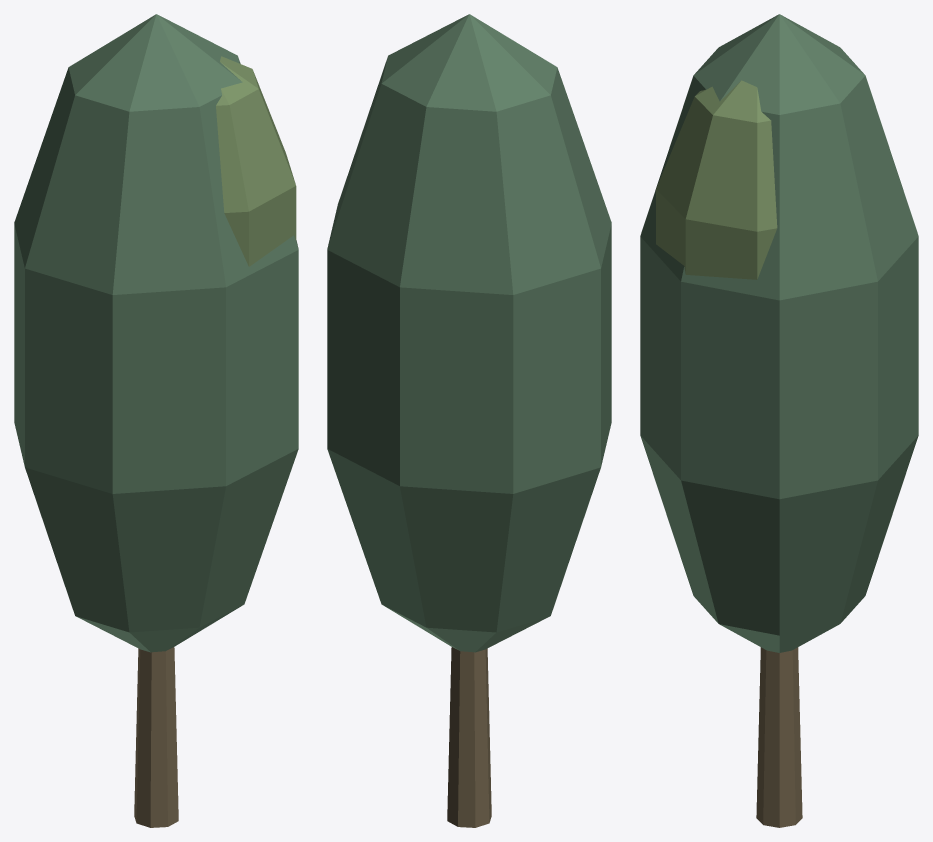
The model's file is tree-column.glb.
The picture shows the model from 3 angles, left to right: view 1: azimuth 30°, elevation 25°; view 2: azimuth 150°, elevation 25°; view 3: azimuth 270°, elevation 25°; orthographic projection.
Parts seen in each view (by area): view 1: tree-column; view 2: tree-column; view 3: tree-column.
Boxes of the visible parts, x1,y1,x2,y2 form: tree-column: [14, 14, 298, 827]; tree-column: [327, 14, 611, 827]; tree-column: [640, 14, 918, 827].
Bounding box in the file's own units: 3.42 × 10 × 3.14.
